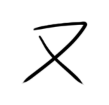nu: (20, 19, 89, 87)
